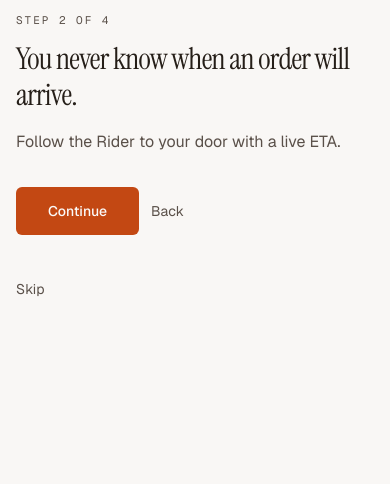
Onboarding insight + personalization (slice 02 contract) › result screen routes customer to /shop and persists answers
The width and height of the screenshot is (390, 484).
Click the button "Continue".
click(78, 210)  # box [16,186,139,234]
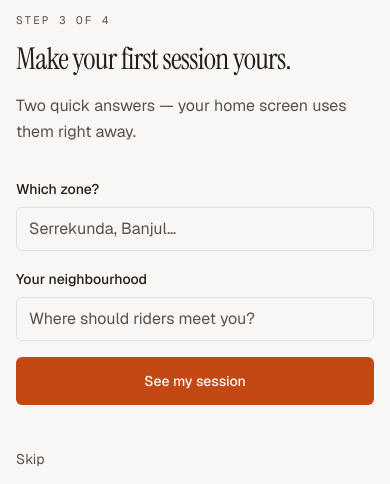
Type "Serrekunda" into the field labelled "Which zone?".
click(195, 228); type("Serrekunda")  # box [16,206,374,250]
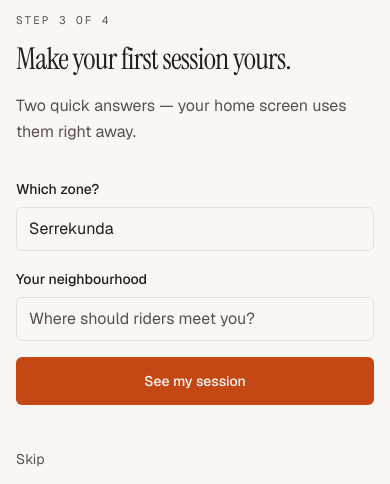
Type "Test detail" into the field labelled "Your neighbourhood".
click(195, 318); type("Test detail")  # box [16,296,374,340]
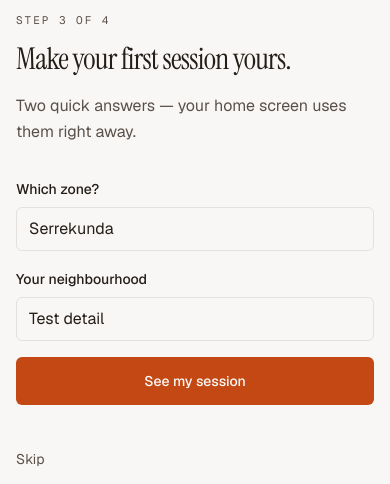
Click the button "See my session".
click(195, 380)  # box [16,356,374,404]
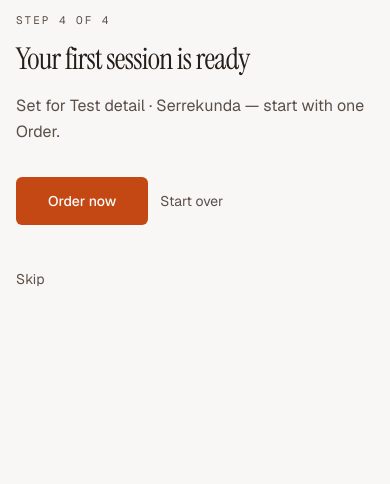
Expected: the heading "Your first session is ready" is shown, [16,38,250,78]
